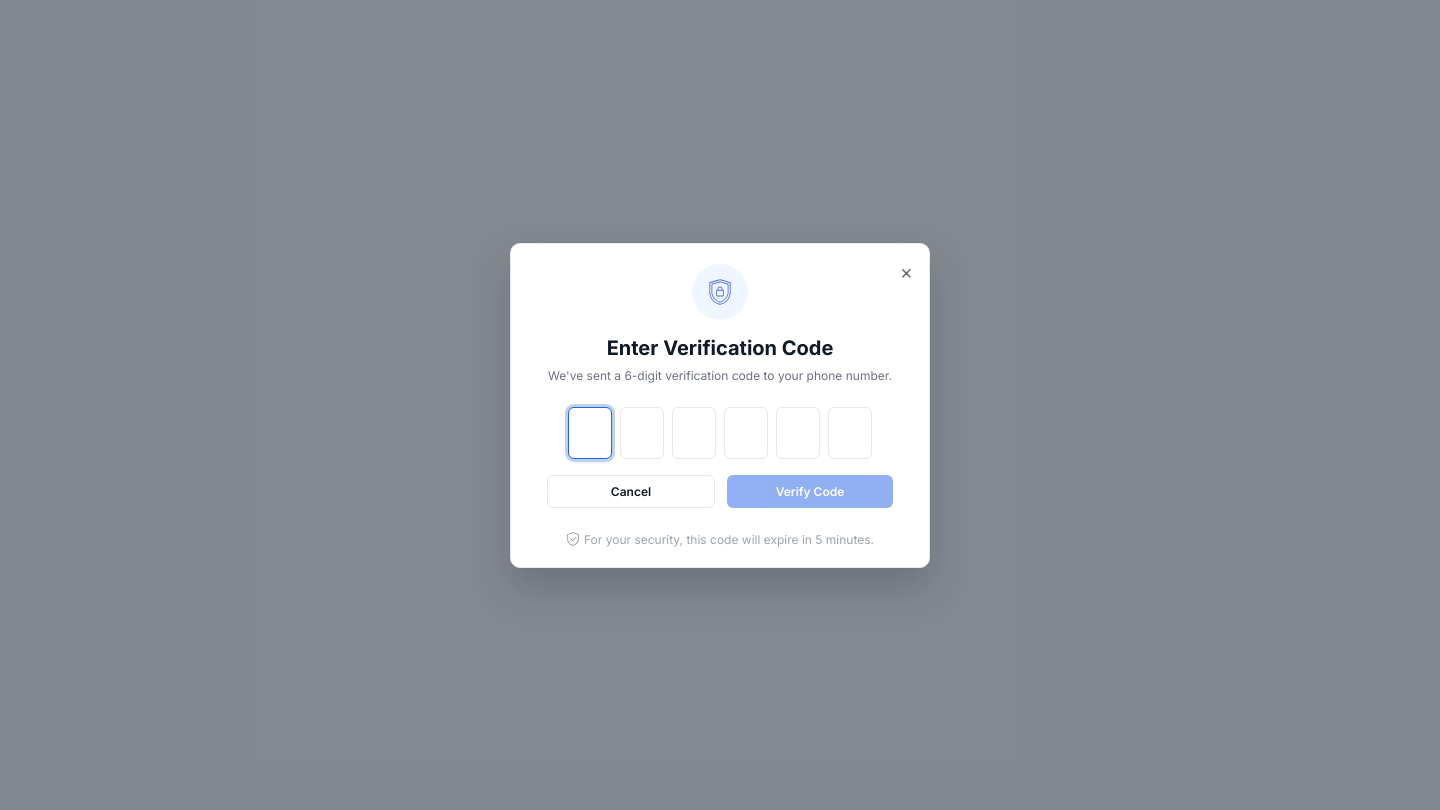
Test: CodeModal › disables every digit input once the backend reports a non-awaiting_code state (locked out or expired)
The image size is (1440, 810).
Type "9" into the 1st field at (590, 432), box x1=568 y1=406 x2=612 y2=458
Type "9" into the 2nd field at (642, 432), box x1=620 y1=406 x2=664 y2=458
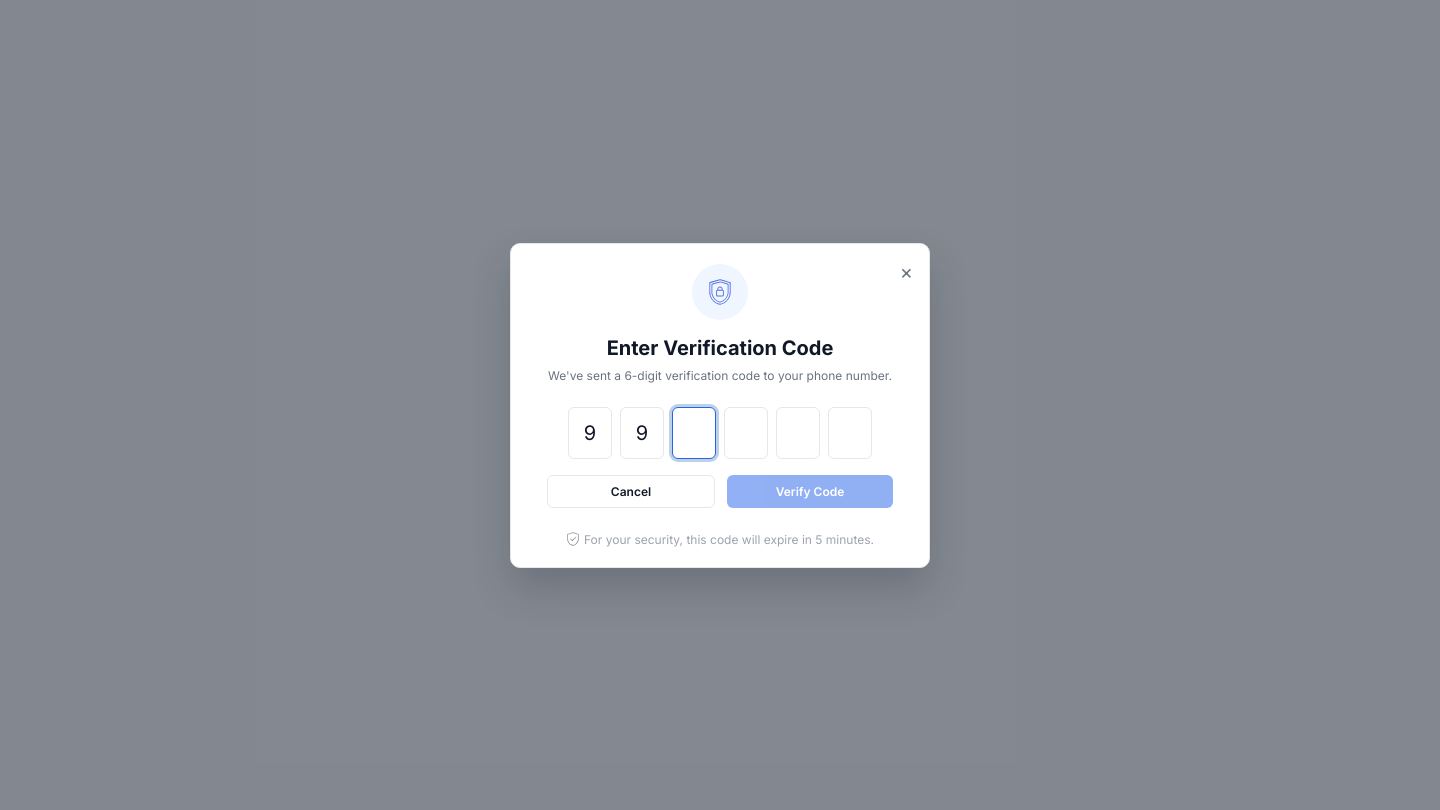
Type "9" into the 3rd field at (694, 432), box x1=672 y1=406 x2=716 y2=458
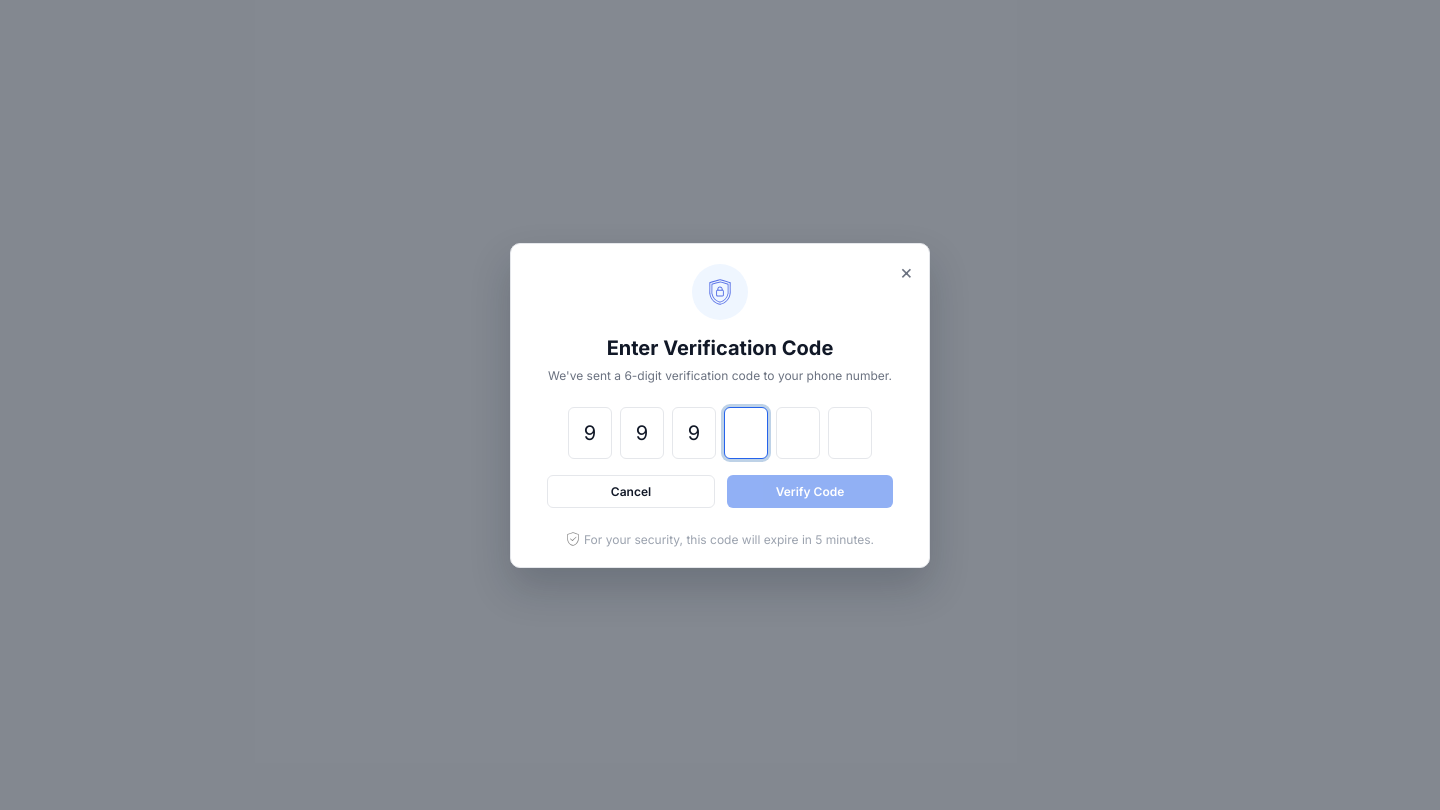
Type "9" into the 4th field at (746, 432), box x1=724 y1=406 x2=768 y2=458
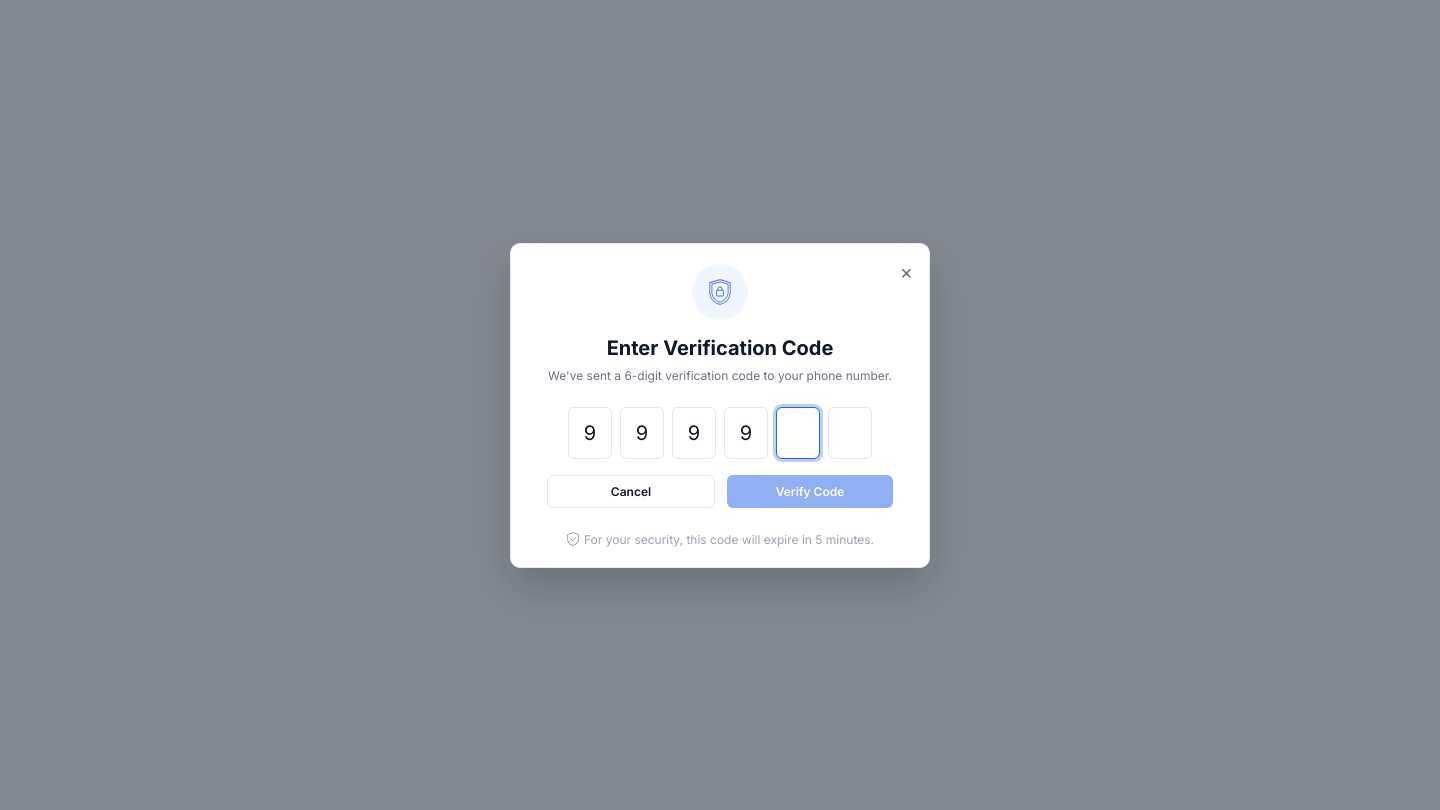
Type "9" into the 5th field at (798, 432), box x1=776 y1=406 x2=820 y2=458
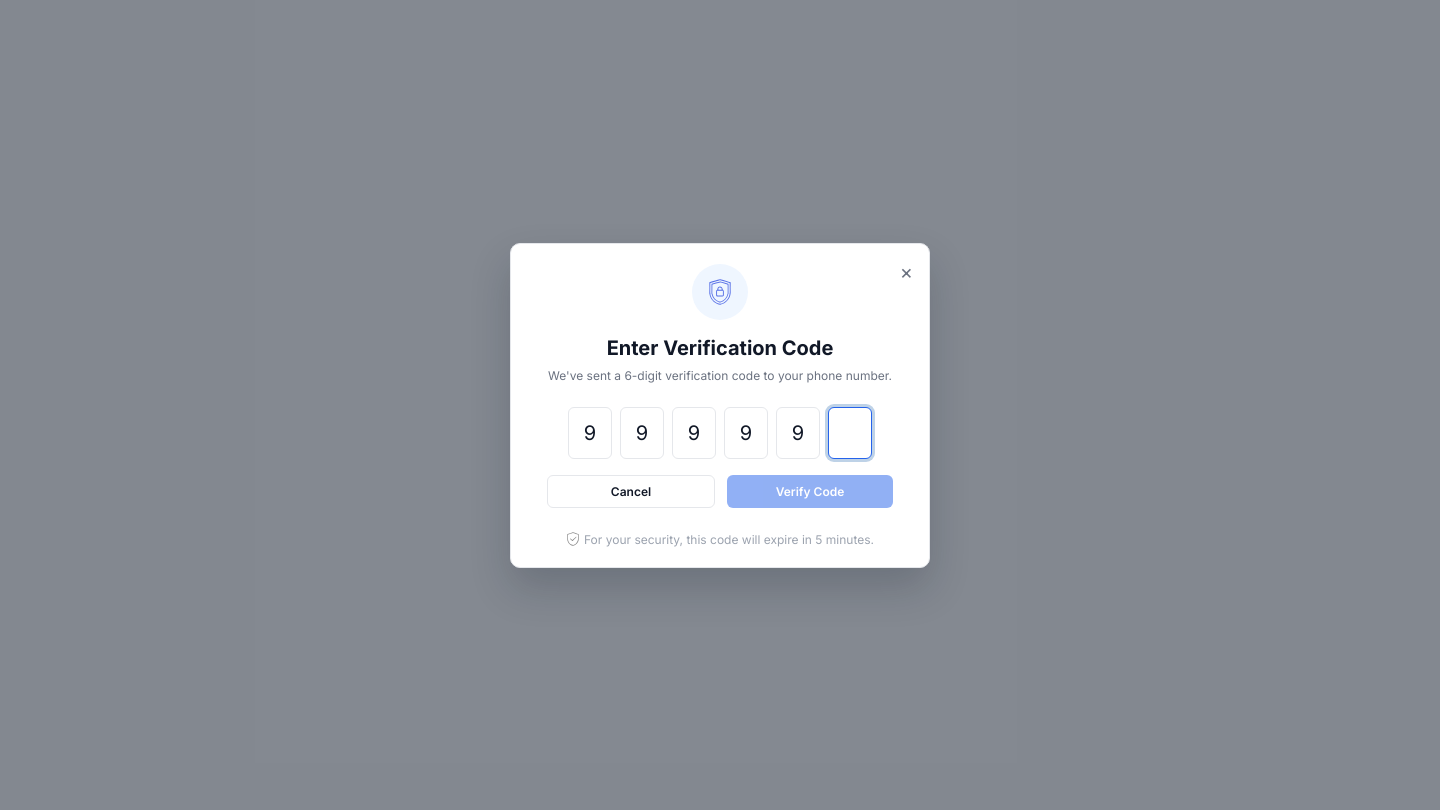
Type "9" into the 6th field at (850, 432), box x1=828 y1=406 x2=872 y2=458
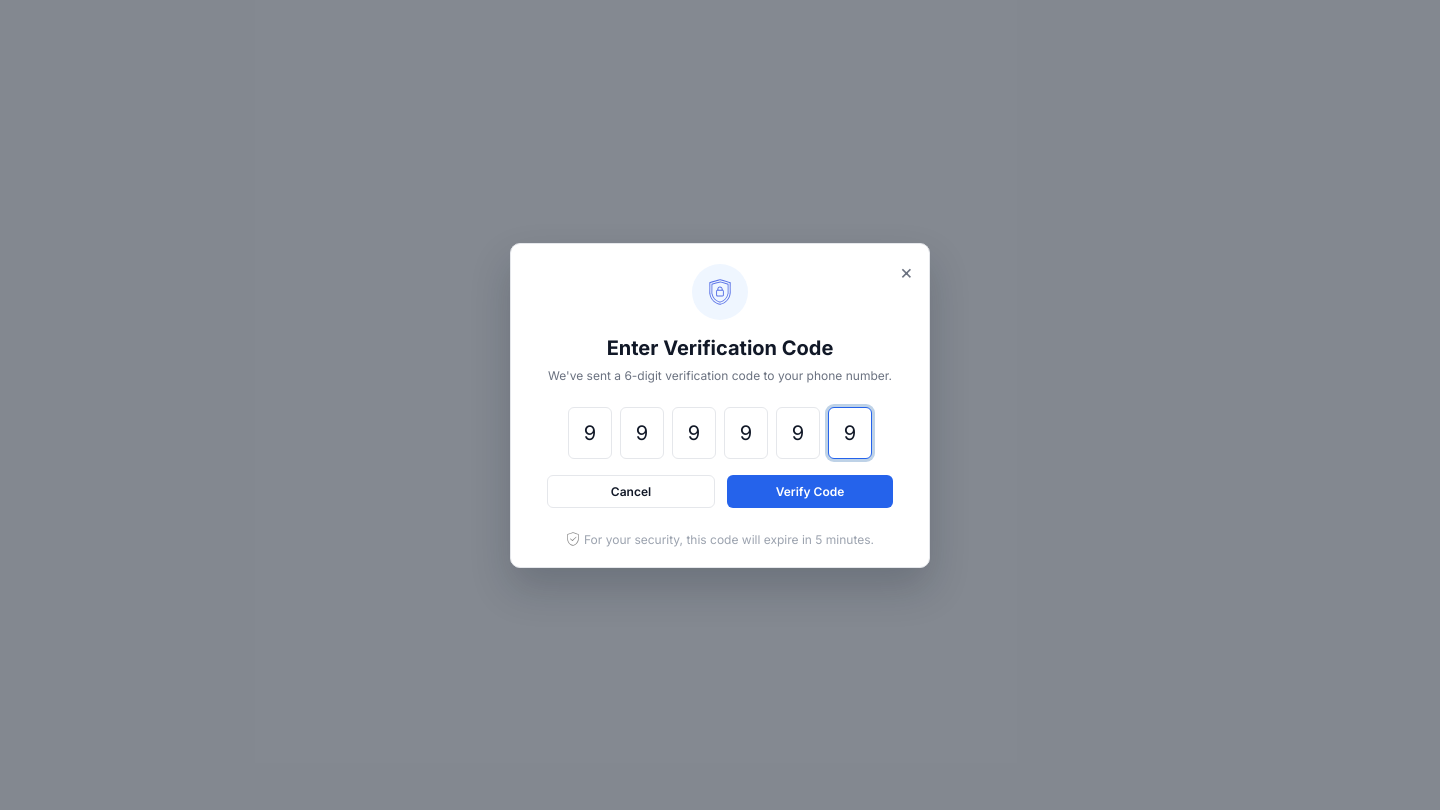
Click the button "Verify Code" at (810, 491), box x1=727 y1=474 x2=893 y2=508
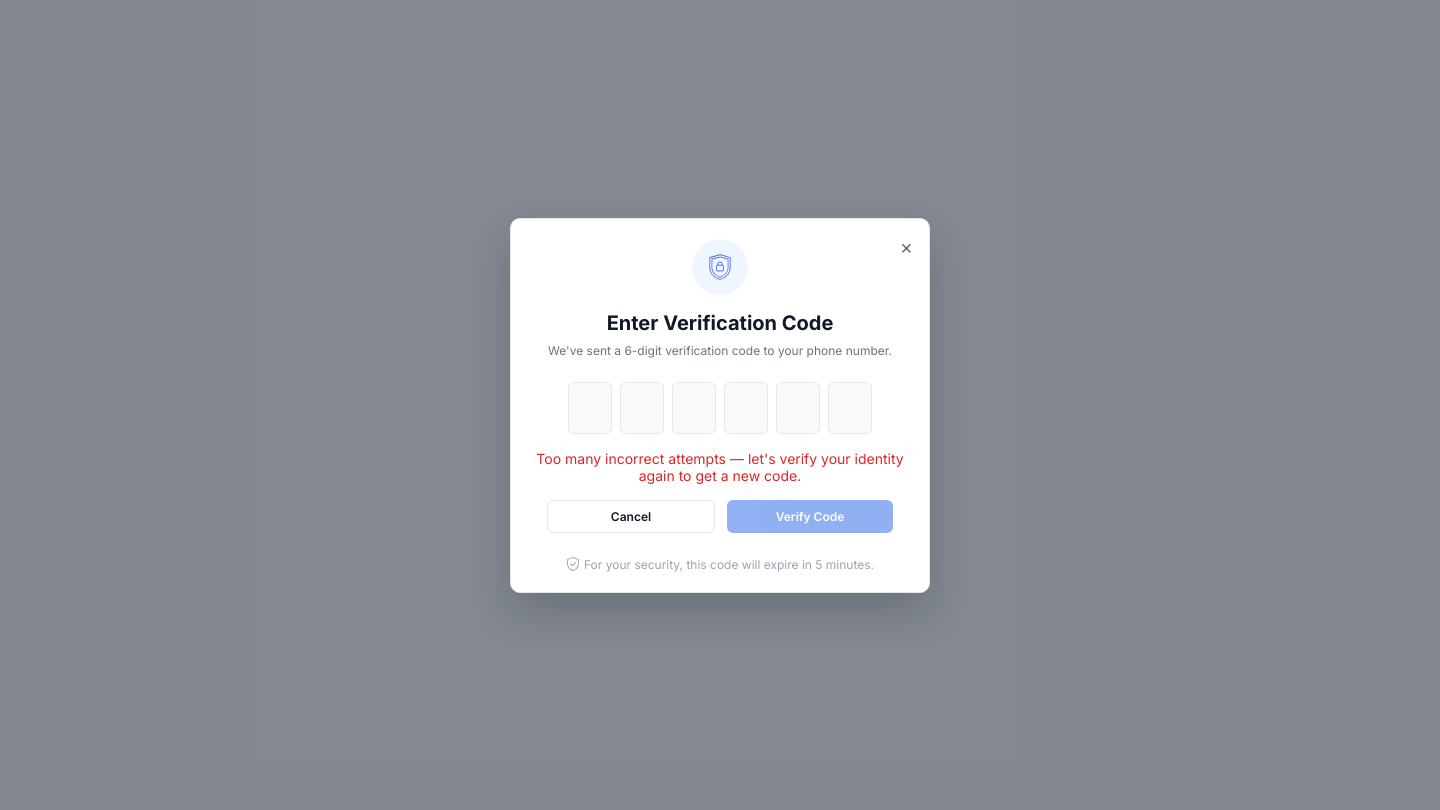
Now the text "Too many incorrect attempts" is shown, box x1=536 y1=450 x2=904 y2=484
Now the 1st field is disabled, box x1=568 y1=382 x2=612 y2=434
Now the 2nd field is disabled, box x1=620 y1=382 x2=664 y2=434
